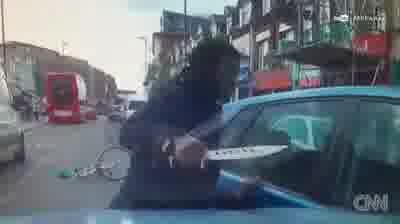knife: (211, 140, 295, 162)
knife in hand: (125, 113, 302, 173)
person: (114, 38, 239, 204)
